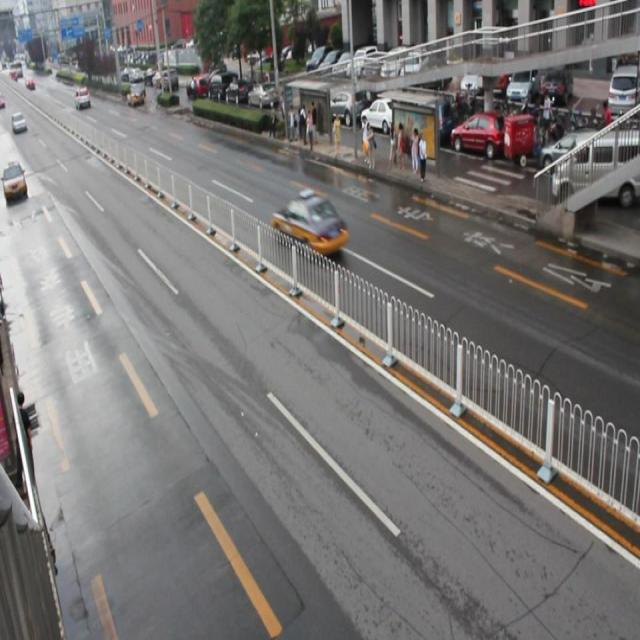car: (272, 190, 348, 256), (1, 161, 28, 200)
